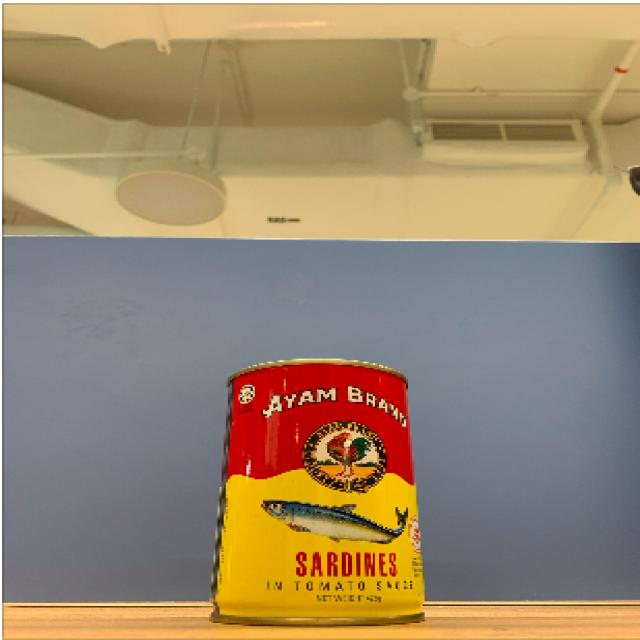object_name: (223, 361, 429, 626)
